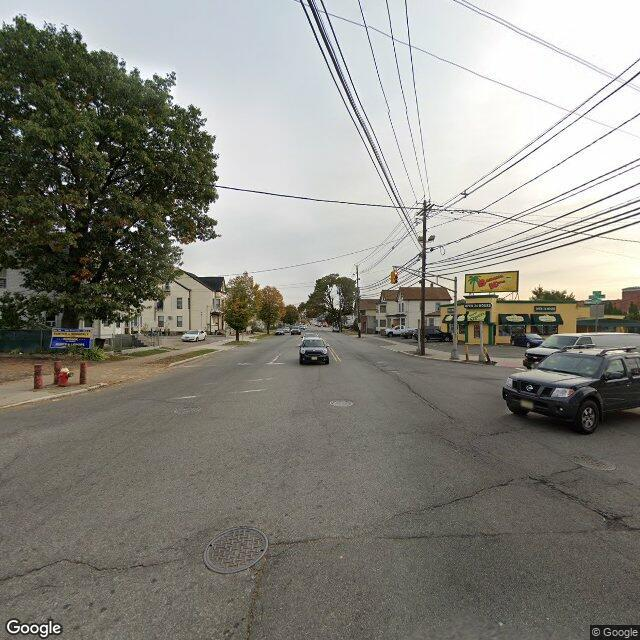pothole: (595, 508, 638, 537), (528, 472, 554, 492)
